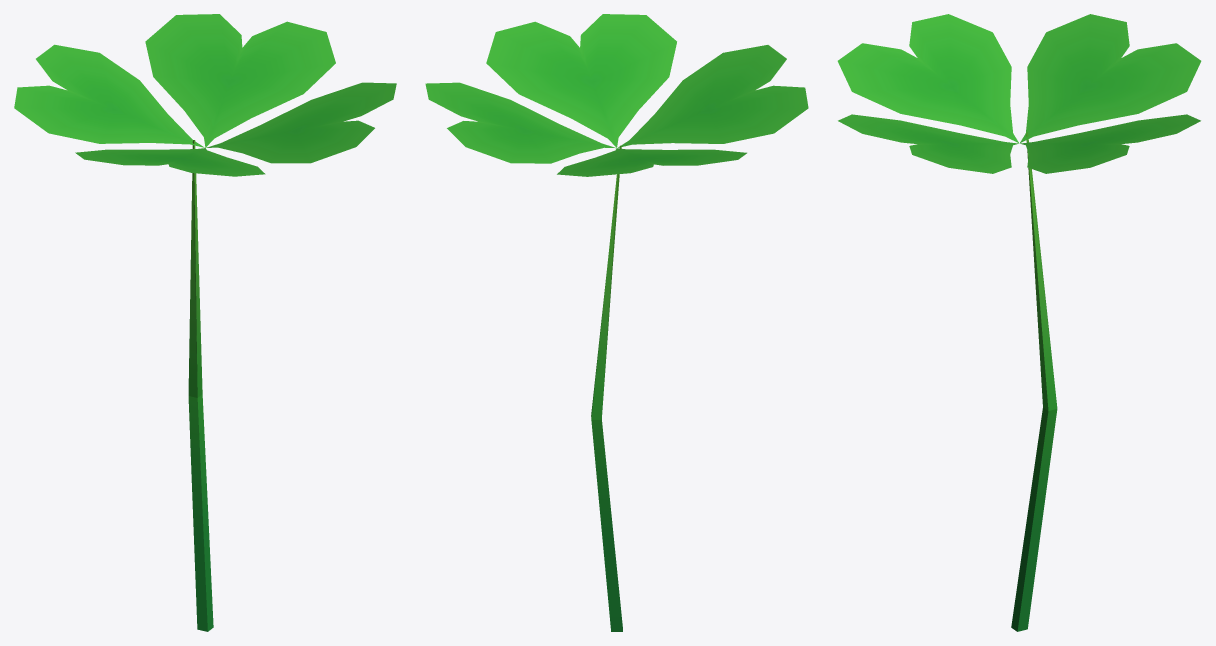
Rendered from clover_four_leaf.glb.
3 renders of one model, left to right at view 1: azimuth 30°, elevation 25°; view 2: azimuth 150°, elevation 25°; view 3: azimuth 270°, elevation 25°, orthographic.
Visible parts, largest first — view 1: Clover_1_1_C; view 2: Clover_1_1_C; view 3: Clover_1_1_C.
Part boxes in pixels (left/top/right/bottom): Clover_1_1_C: left=14, top=14, right=396, bottom=631; Clover_1_1_C: left=425, top=14, right=808, bottom=631; Clover_1_1_C: left=837, top=14, right=1201, bottom=631.
Size of the model in its own units: 0.0855 by 0.14 by 0.0855.
Materials: 1 (1 with a texture image).
